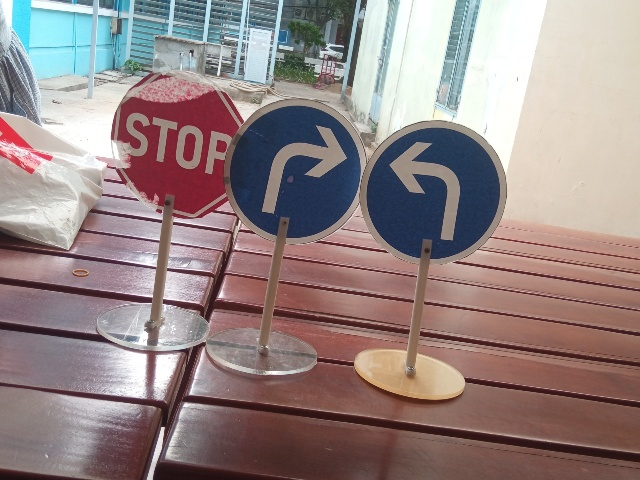Left_Sign: (359, 120, 507, 266)
Right_Sign: (224, 98, 367, 245)
Stop_Sign: (111, 71, 245, 220)
